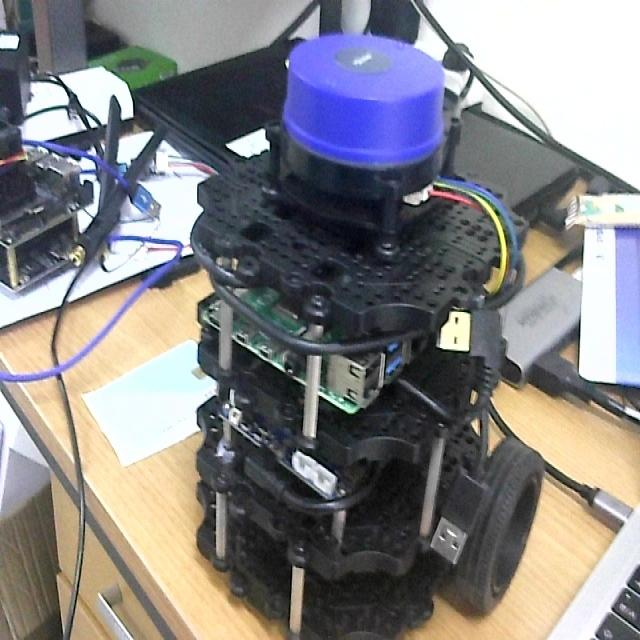turtle: (185, 30, 547, 640)
